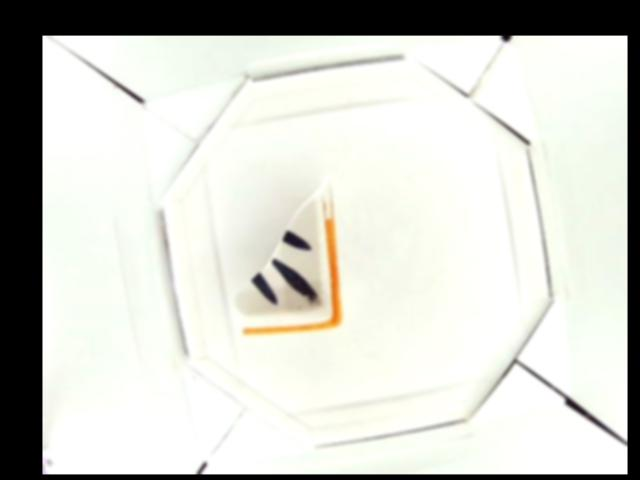China: (229, 179, 343, 335)
